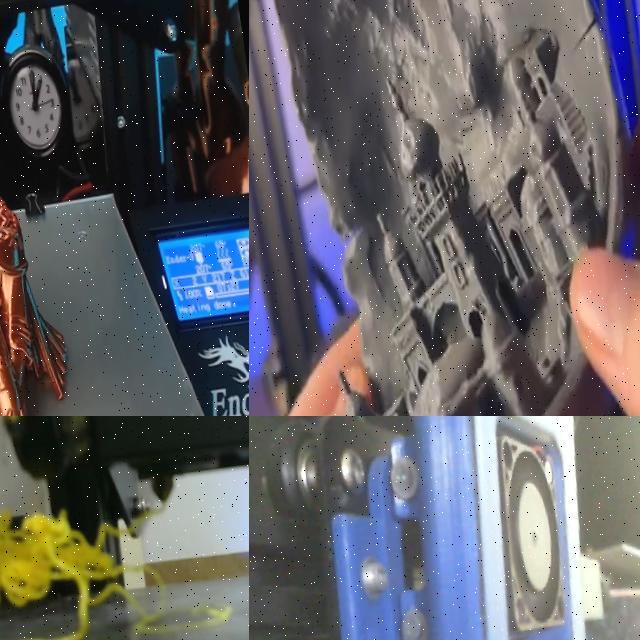spaghetti: (0, 512, 231, 640), (131, 511, 152, 531)
